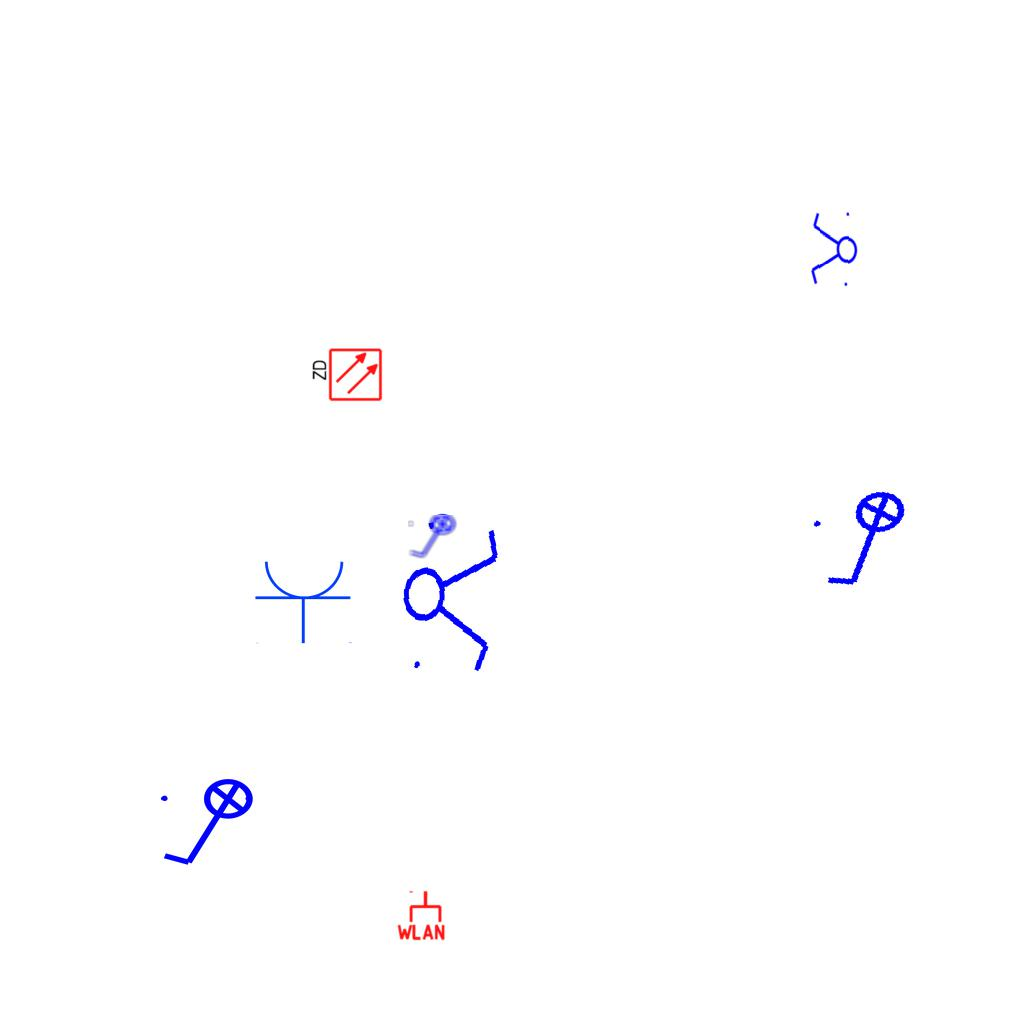Ausschalter_beleuchtet: (803, 483, 933, 599), (155, 777, 267, 873), (406, 513, 462, 561)
Schukosteckdose_einfach: (254, 557, 354, 644)
Serienschalter: (393, 507, 507, 685), (808, 207, 860, 293)
WLAN: (395, 889, 447, 941)
ZD_Melder_in_Zwischendecke_mit_Revisionsoeffnung_mind_40_x_40_cm: (309, 347, 383, 404)
